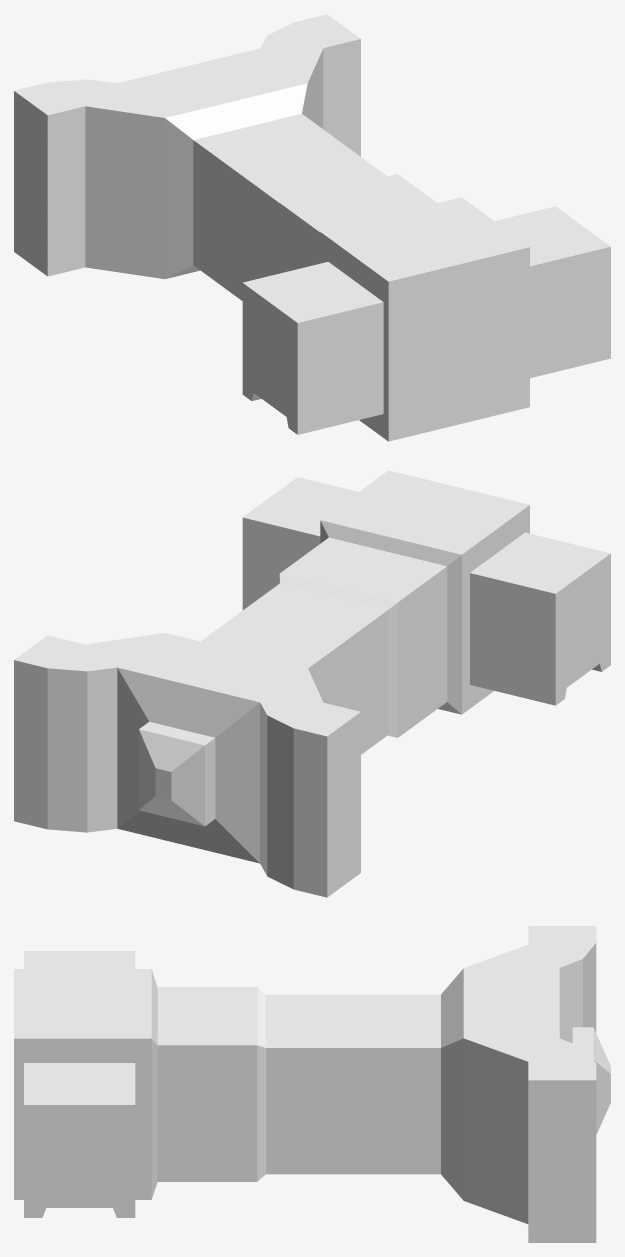
The model's file is venice_palace_1_2.fbx.
3 renders of one model, top to bottom at view 1: azimuth 30°, elevation 25°; view 2: azimuth 150°, elevation 25°; view 3: azimuth 270°, elevation 25°, orthographic.
Visible parts, largest first — view 1: Cube.258; view 2: Cube.258; view 3: Cube.258.
Boxes of the visible parts, x1,y1,x2,y2 form: Cube.258: (14,14,610,441); Cube.258: (14,470,610,897); Cube.258: (14,926,610,1242).
Bounding box in the file's own units: 410 × 202 × 671.
